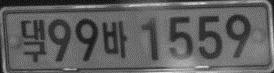1: (139, 16, 164, 61)
5: (198, 15, 223, 60), (168, 16, 193, 60)
9: (225, 13, 251, 58), (47, 18, 72, 62), (75, 17, 98, 61)
대구_V: (20, 19, 46, 62)
바: (101, 20, 127, 58)
